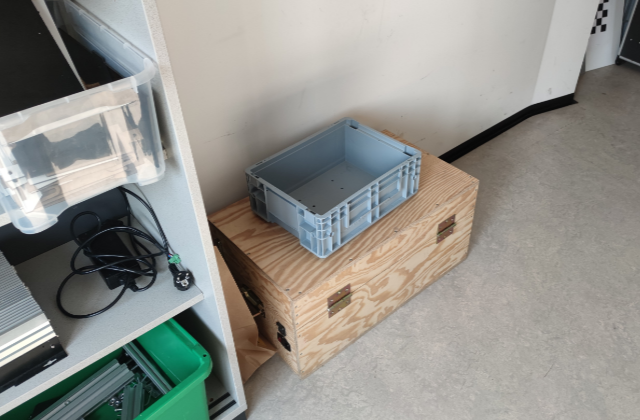Box: (243, 117, 422, 260)
